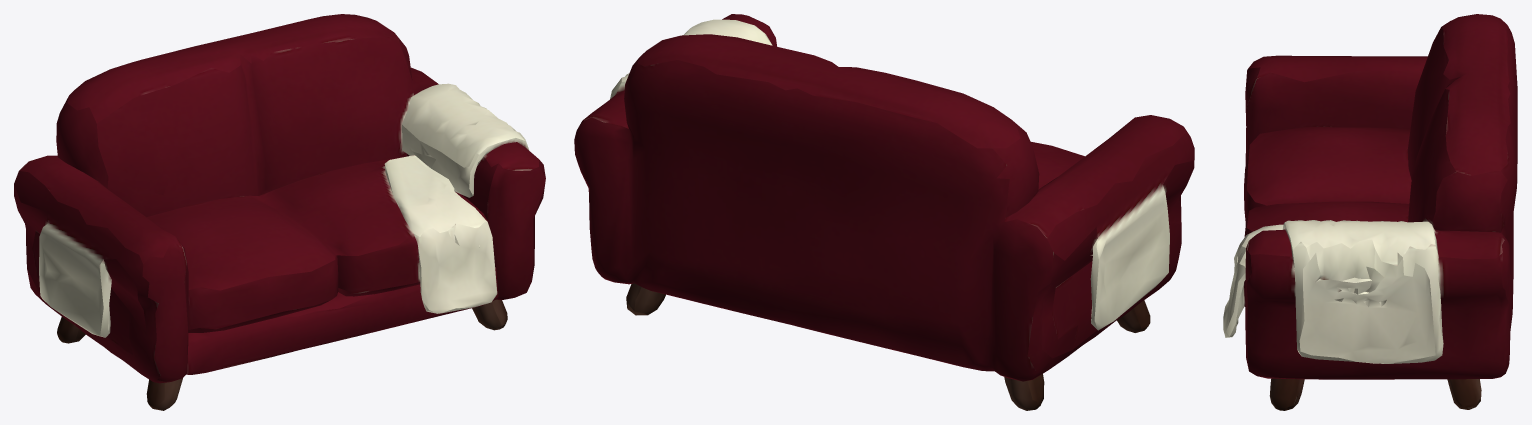
Rendered from sofa.glb.
3 renders of one model, left to right at view 1: azimuth 30°, elevation 25°; view 2: azimuth 150°, elevation 25°; view 3: azimuth 270°, elevation 25°, orthographic. The views are drawn at different scales.
Visible parts, largest first — view 1: world; view 2: world; view 3: world.
Part boxes in pixels (box(x1,y1,x2,y2)): world: box(14, 14, 545, 410); world: box(574, 14, 1194, 410); world: box(1223, 14, 1517, 410).
Bounding box in the file's own units: 1.6 × 0.9032 × 0.951.
Materials: 1 (1 with a texture image).
